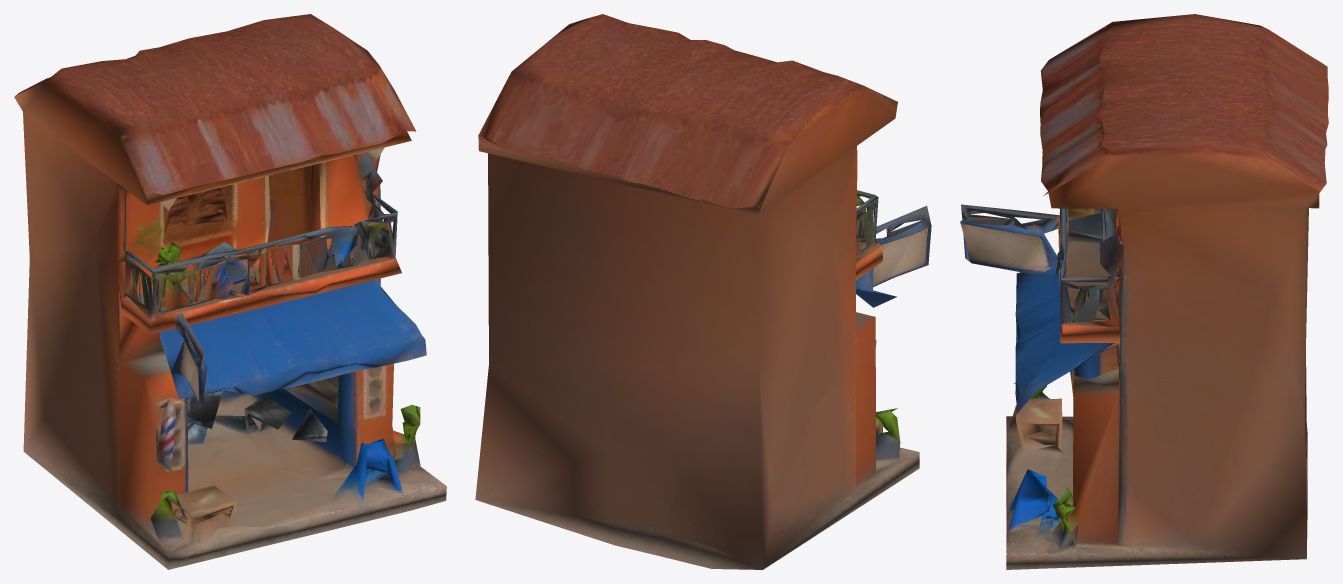
The model's file is building-3.glb.
3 renders of one model, left to right at view 1: azimuth 30°, elevation 25°; view 2: azimuth 150°, elevation 25°; view 3: azimuth 270°, elevation 25°, orthographic. The views are drawn at different scales.
Visible parts, largest first — view 1: tripo_node_ebfb49a2-a911-472e-a9af-aa5d95e86360; view 2: tripo_node_ebfb49a2-a911-472e-a9af-aa5d95e86360; view 3: tripo_node_ebfb49a2-a911-472e-a9af-aa5d95e86360.
Part boxes in pixels (x1,y1,x2,y2): tripo_node_ebfb49a2-a911-472e-a9af-aa5d95e86360: (14,14,446,569); tripo_node_ebfb49a2-a911-472e-a9af-aa5d95e86360: (475,14,931,569); tripo_node_ebfb49a2-a911-472e-a9af-aa5d95e86360: (960,14,1328,569).
Size of the model in its own units: 0.7178 by 1 by 0.7905.
1 material, 1 textured.
